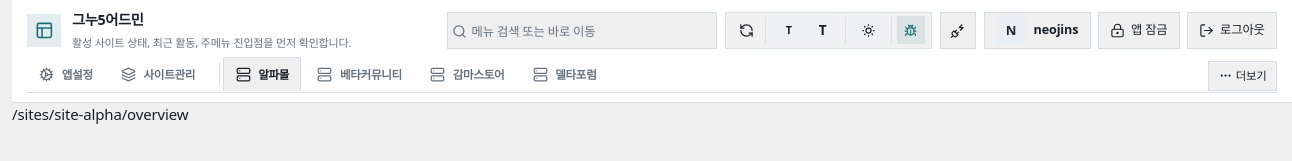
it: AppShellHeader › moves to overflowed site tabs through the more menu
Click the button "더보기" at [1243, 76], box [1208,61,1277,91]
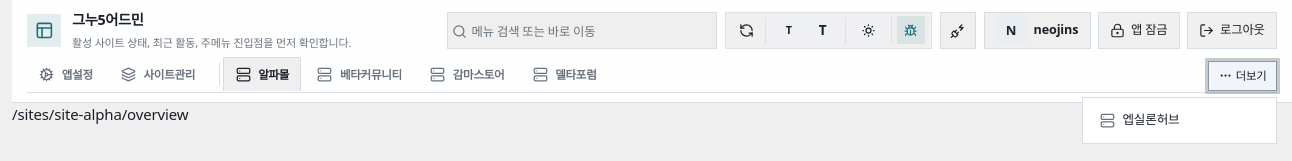
Click the menu item "엡실론허브" at [1180, 121], box [1089,104,1270,138]
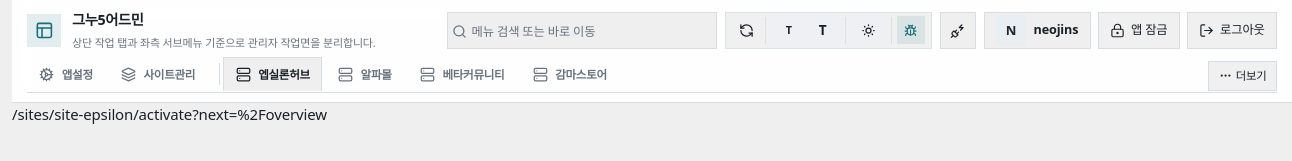
Expected: the text with test id "location" shows "/sites/site-epsilon/activate", [12,104,327,124]
